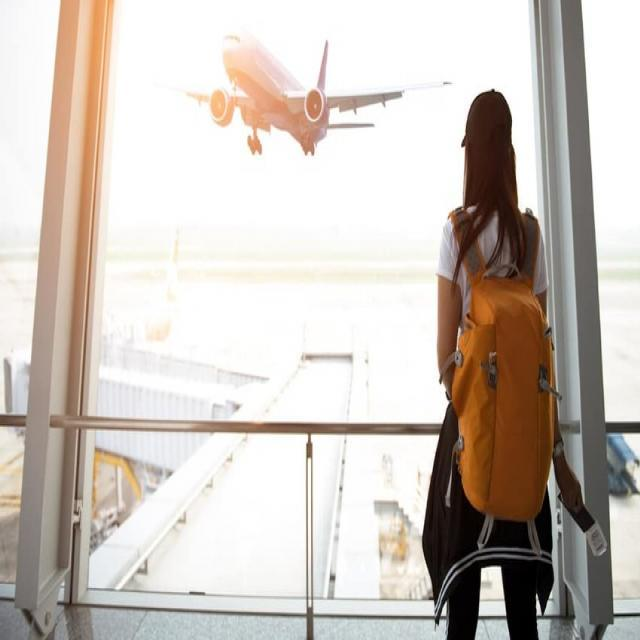Backpacks: (448, 213, 558, 528)
